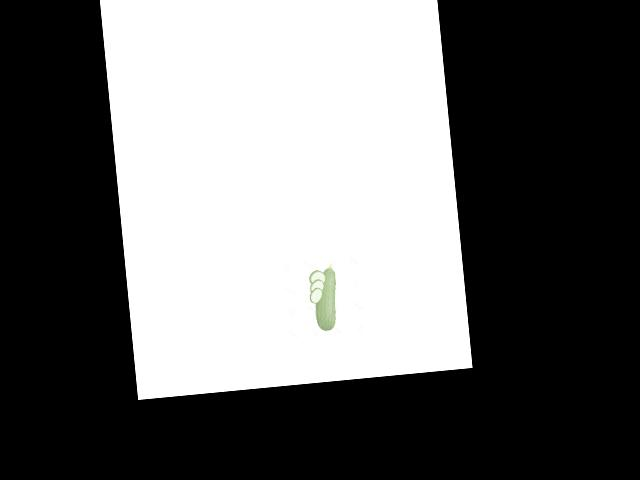cucumber: (310, 264, 340, 332)
